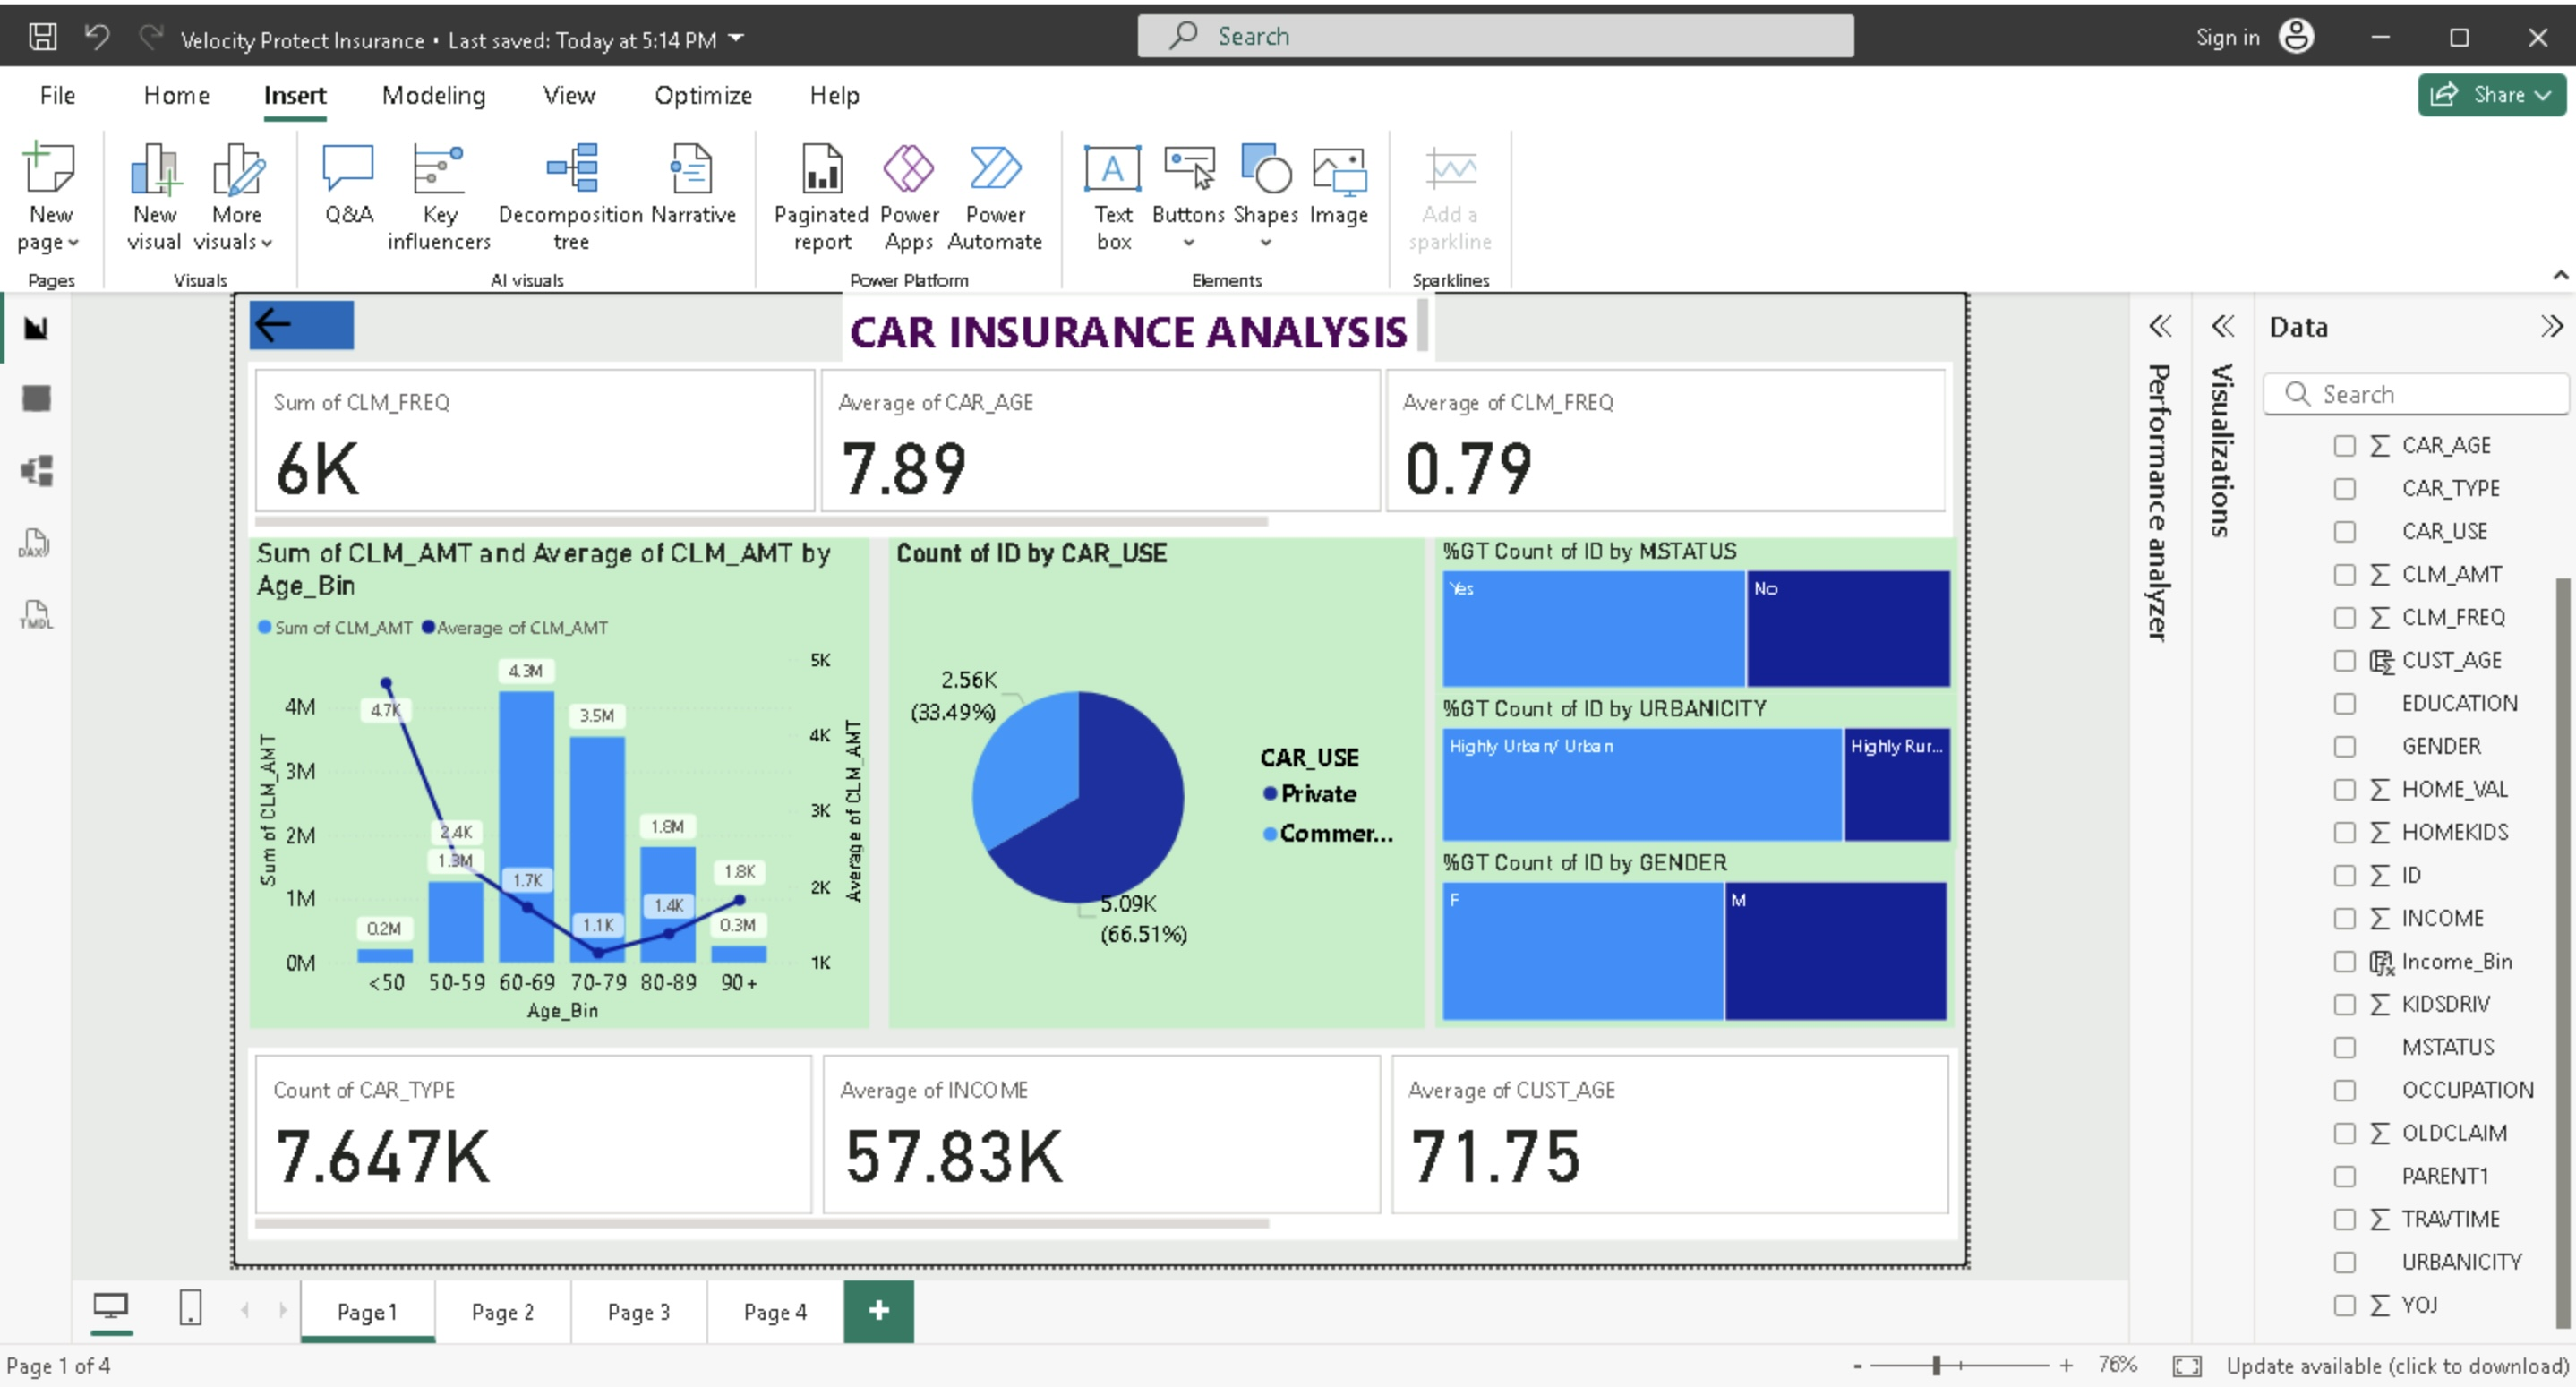

The page's visual inventory and layout, read from the dashboard file:
{"tool":"powerbi","page":{"name":"Page 1","canvas":[1280,720],"ordinal":0},"visuals":[{"type":"lineClusteredColumnComboChart","fields":{"Y":["Sum(Data.CLM_AMT)"],"Category":["Data.Age_Bin"],"Y2":["Avg(Data.CLM_AMT)"]},"box":[11.9,181.3,457.9,362.6],"z":0},{"type":"textbox","box":[450,0,438.1,51.6],"z":1},{"type":"pieChart","fields":{"Category":["Data.CAR_USE"],"Y":["CountNonNull(Data.ID)"]},"box":[484.4,181.3,395.7,362.6],"z":2},{"type":"treemap","fields":{"Values":["CountNonNull(Data.ID)"],"Group":["Data.GENDER"]},"box":[888.1,411.6,383.8,132.4],"z":3},{"type":"treemap","fields":{"Values":["CountNonNull(Data.ID)"],"Group":["Data.URBANICITY"]},"box":[888.1,297.8,386.5,113.8],"z":4},{"type":"treemap","fields":{"Values":["CountNonNull(Data.ID)"],"Group":["Data.MSTATUS"]},"box":[888.1,181.3,386.5,116.5],"z":5},{"type":"cardVisual","fields":{"Data":["Sum(Data.CLM_FREQ)1","Avg(Data.CAR_AGE)","Avg(Data.CLM_FREQ)","Avg(Data.CLM_AMT)","Sum(Data.CLM_AMT)1"]},"box":[10.6,51.6,1260,129.7],"z":6},{"type":"cardVisual","fields":{"Data":["CountNonNull(Data.CAR_TYPE)","Avg(Data.INCOME)","Avg(Data.CUST_AGE)","Avg(Data.TRAVTIME)","Avg(Data.HOME_VAL)"]},"box":[10.6,558.5,1264,141.6],"z":7},{"type":"actionButton","box":[11.9,6.6,76.8,35.7],"z":8}]}

Visuals, with their boxes on the page's 1280x720 design canvas (x1, y1, x2, y2). These are canvas units, not pixel positions in the 2576x1387 screenshot, which may show the page scaled, cropped or inside an application window:
lineClusteredColumnComboChart - Sum(Data.CLM_AMT) x Data.Age_Bin: 12:181:470:544
textbox: 450:0:888:52
pieChart - Data.CAR_USE x CountNonNull(Data.ID): 484:181:880:544
treemap - CountNonNull(Data.ID) x Data.GENDER: 888:412:1272:544
treemap - CountNonNull(Data.ID) x Data.URBANICITY: 888:298:1275:412
treemap - CountNonNull(Data.ID) x Data.MSTATUS: 888:181:1275:298
cardVisual - Sum(Data.CLM_FREQ)1 x Avg(Data.CAR_AGE): 11:52:1271:181
cardVisual - CountNonNull(Data.CAR_TYPE) x Avg(Data.INCOME): 11:558:1275:700
actionButton: 12:7:89:42
